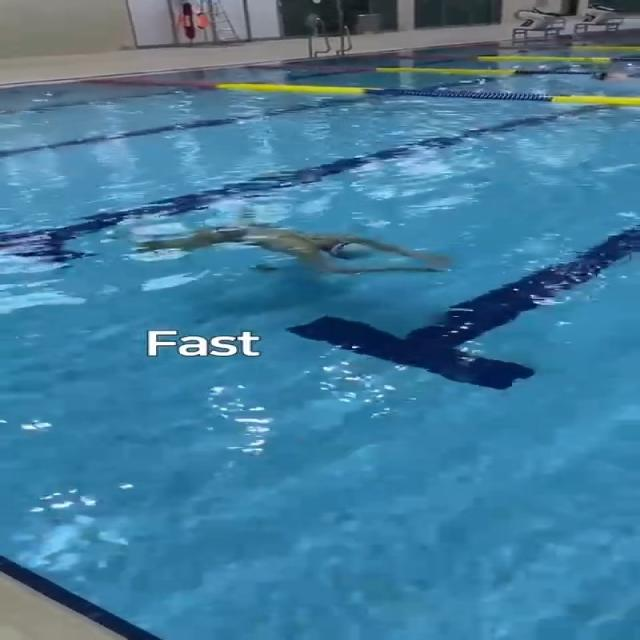Swimming: (124, 211, 455, 289)
